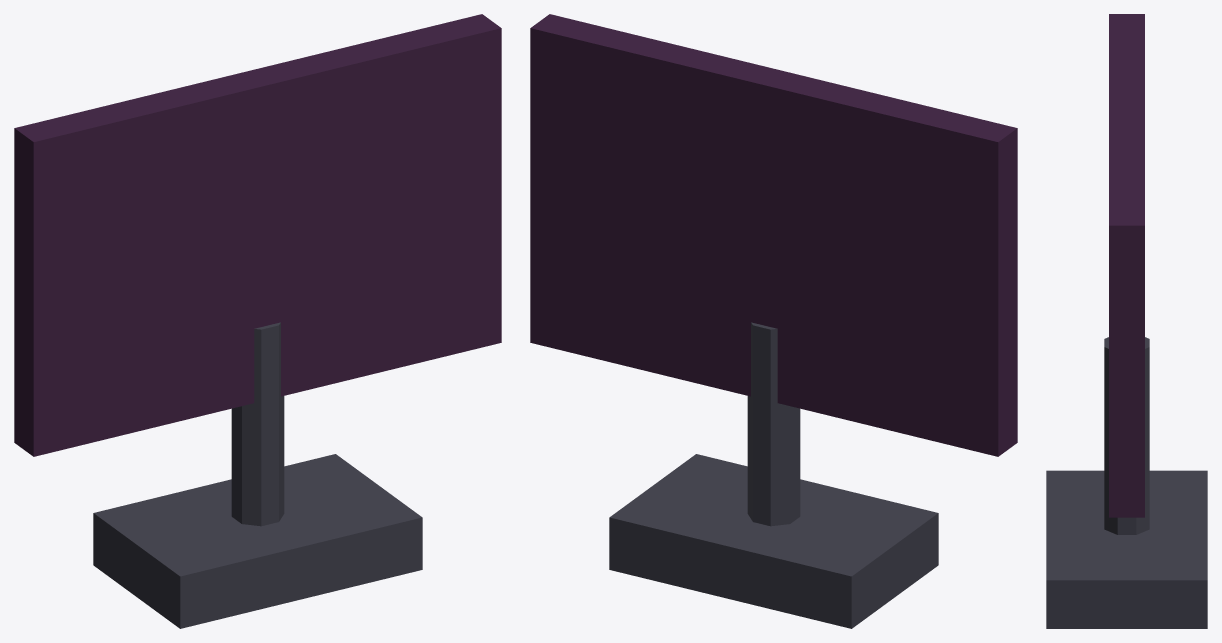
The model's file is monitor.obj.
3 views of the same model, side by side, from view 1: azimuth 30°, elevation 25°; view 2: azimuth 150°, elevation 25°; view 3: azimuth 270°, elevation 25° (orthographic). The views are drawn at different scales.
Parts seen in each view (by area): view 1: monitor-screen, monitor-foot, monitor-neck; view 2: monitor-screen, monitor-foot, monitor-neck; view 3: monitor-foot, monitor-screen, monitor-neck.
Boxes of the visible parts, x1,y1,x2,y2 form: monitor-screen: (14, 14, 501, 456); monitor-foot: (93, 454, 422, 628); monitor-neck: (231, 322, 284, 526); monitor-screen: (530, 14, 1017, 456); monitor-foot: (609, 454, 938, 628); monitor-neck: (747, 322, 800, 526); monitor-foot: (1046, 470, 1207, 628); monitor-screen: (1109, 14, 1144, 517); monitor-neck: (1104, 337, 1149, 534).
Bounding box in the file's own units: 1.12 × 1.12 × 0.36.
